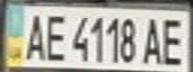1: (87, 12, 106, 63), (103, 12, 121, 63)
4: (66, 11, 90, 63)
8: (118, 13, 142, 64)
A: (18, 9, 48, 62), (139, 14, 166, 65)
E: (160, 14, 190, 66), (42, 10, 69, 62)
